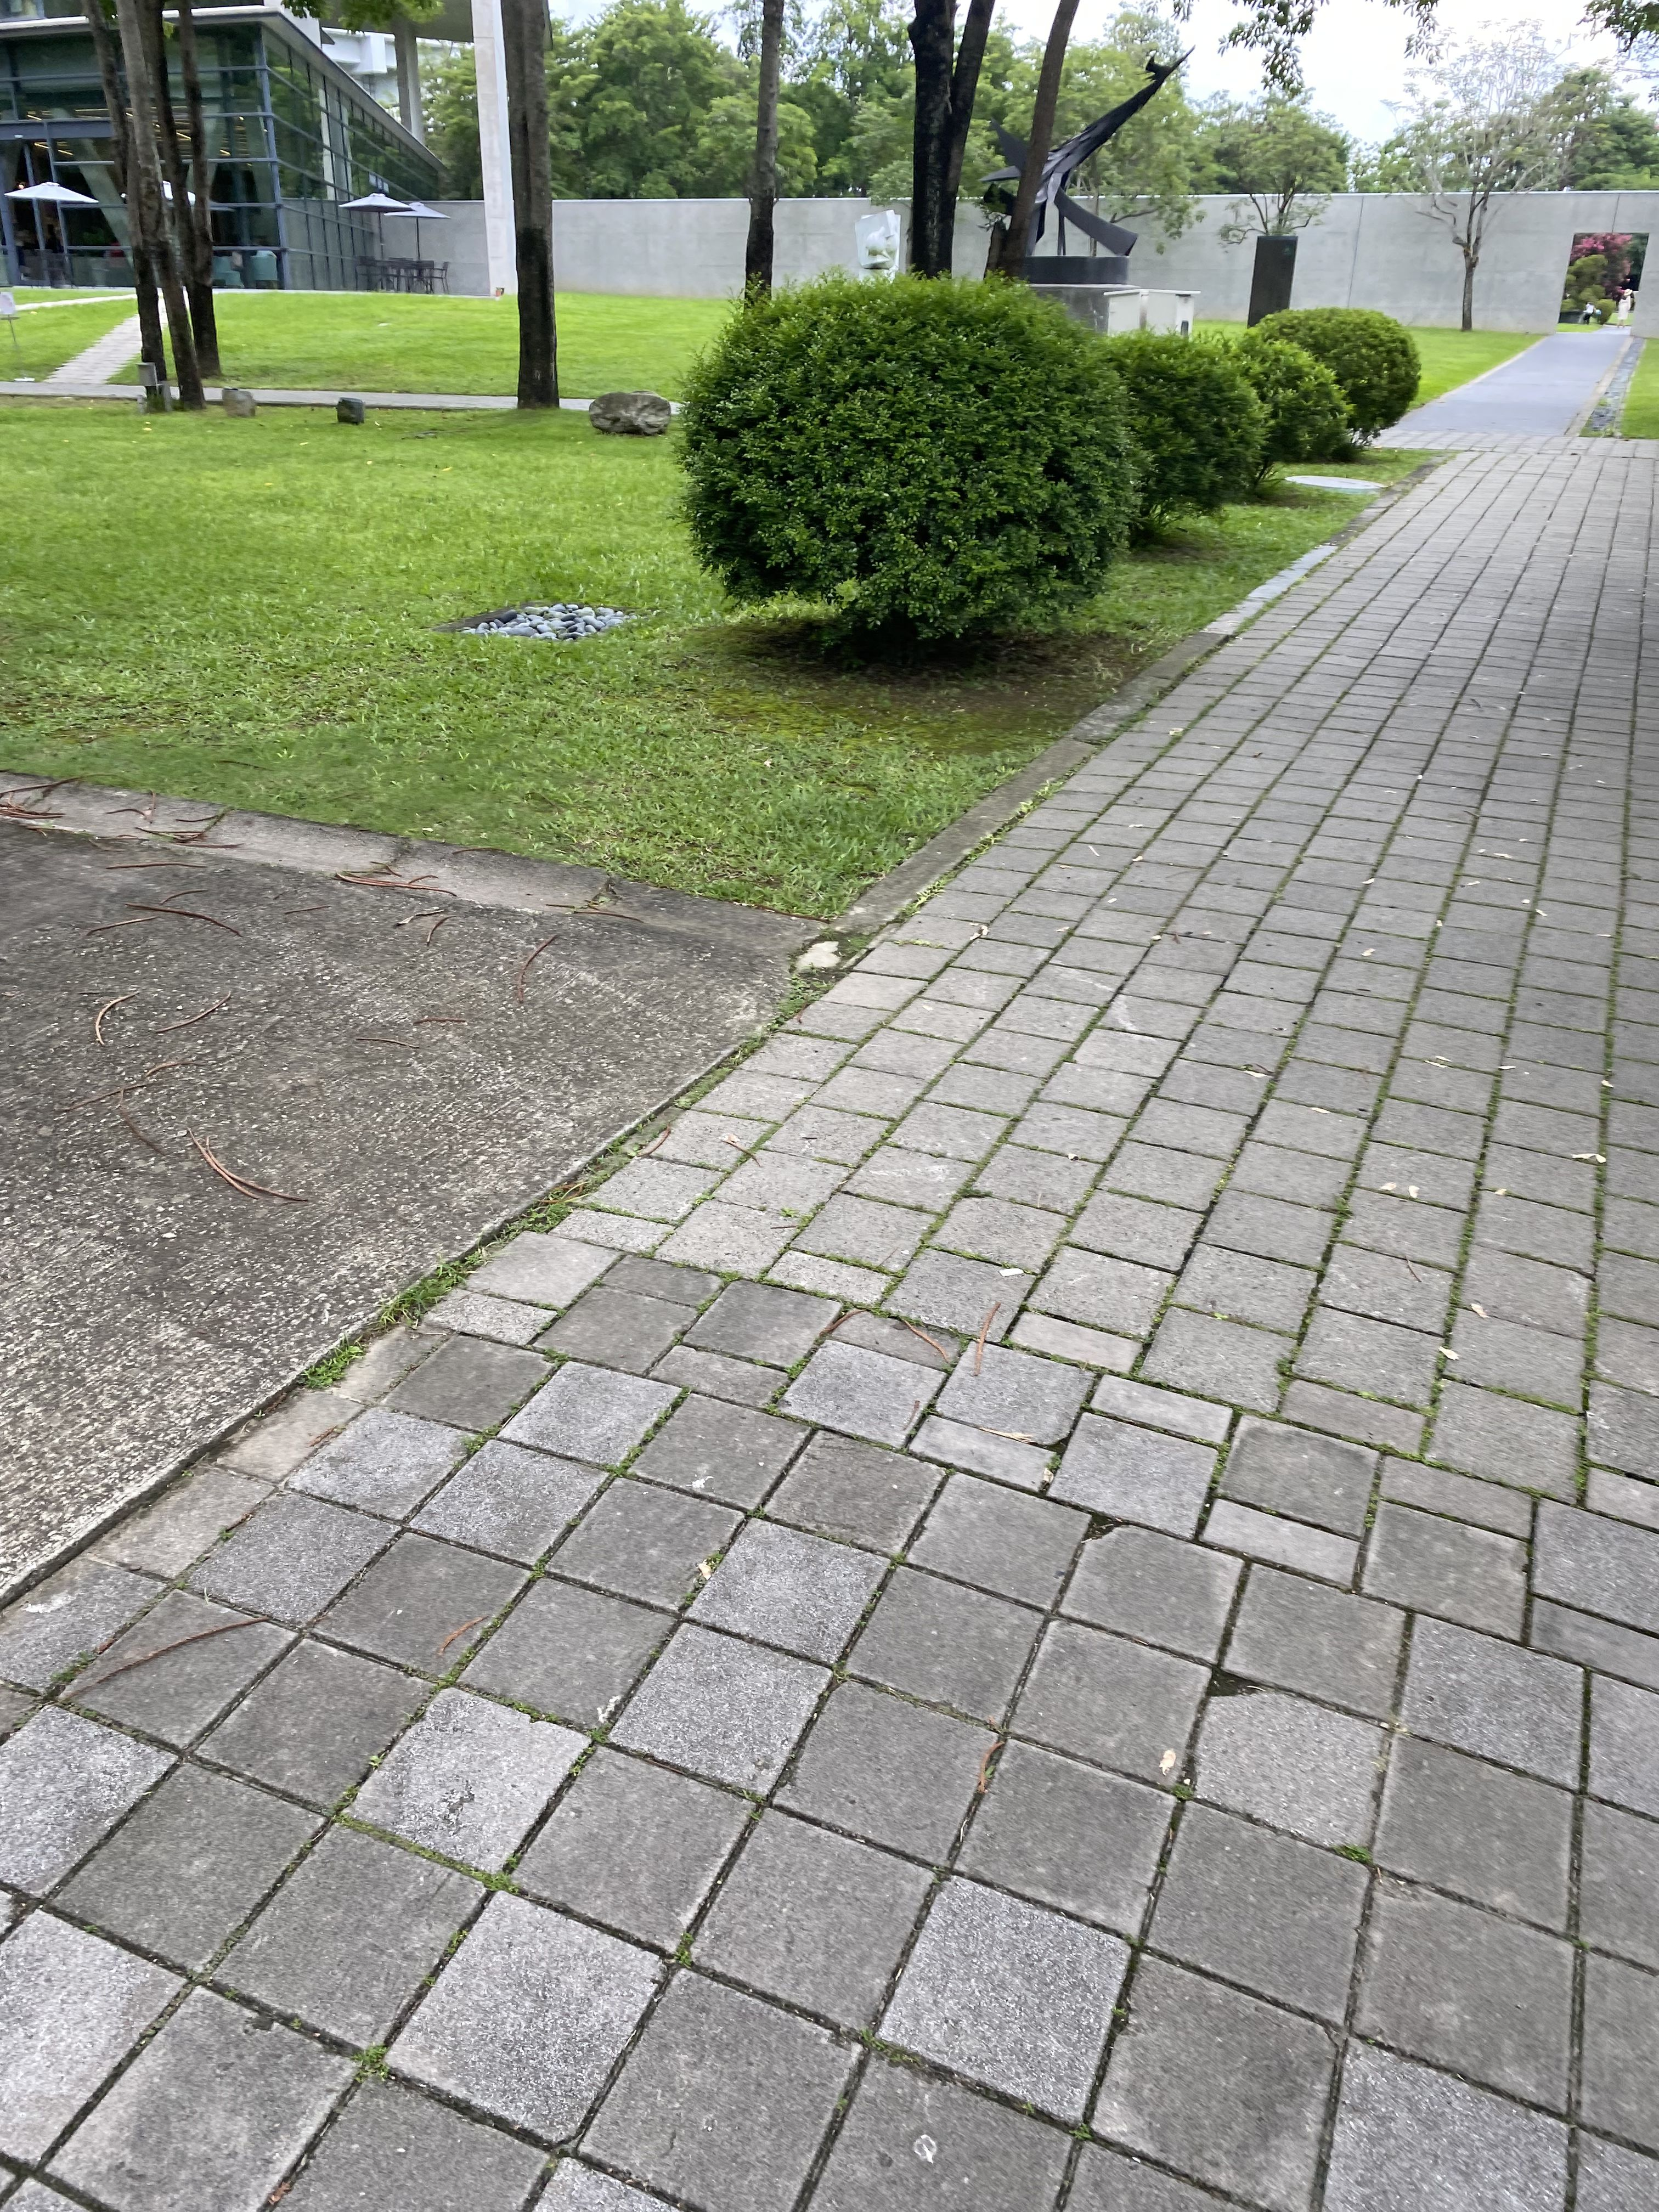0: (1072, 242, 1659, 777)
sidewalk: (10, 765, 1659, 2212)
